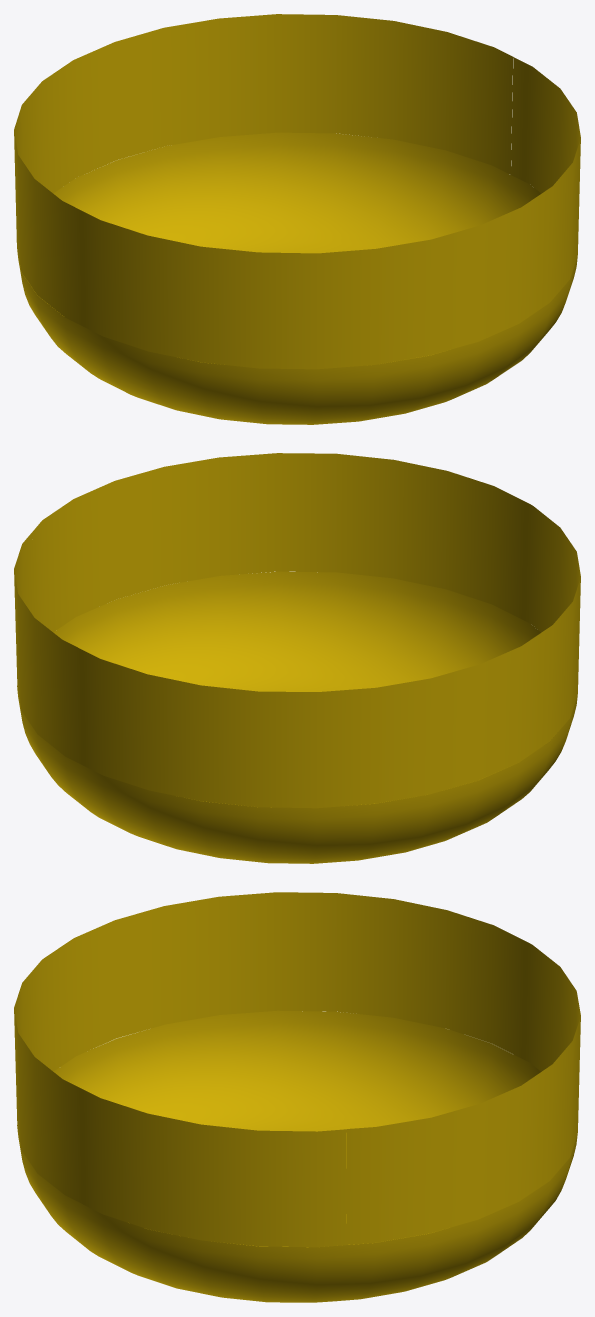
Rendered from original_4.obj.
The picture shows the model from 3 angles, top to bottom: view 1: azimuth 30°, elevation 25°; view 2: azimuth 150°, elevation 25°; view 3: azimuth 270°, elevation 25°; orthographic projection.
Parts seen in each view (by area): view 1: #ID24; view 2: #ID24; view 3: #ID24.
Boxes of the visible parts, x1,y1,x2,y2 form: #ID24: (14,14,580,424); #ID24: (14,453,580,863); #ID24: (14,892,580,1302).
Bounding box in the file's own units: 0.576 × 0.2321 × 0.5771.
